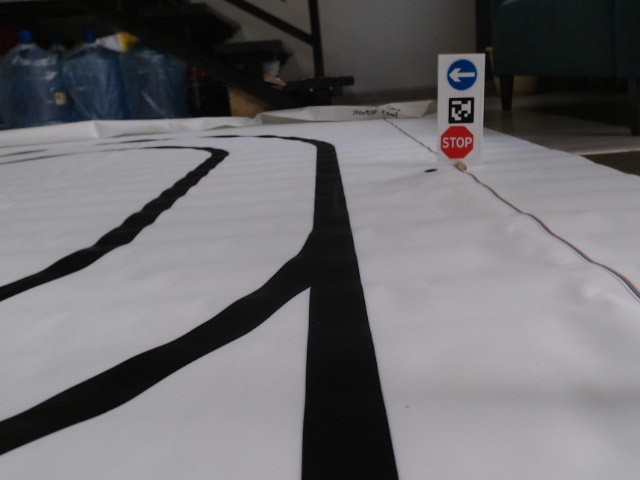Stop: (440, 125, 474, 159)
